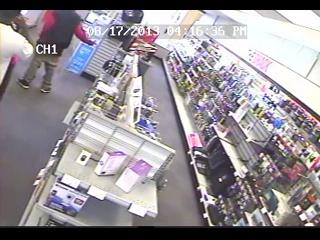Normal: (15, 11, 96, 94), (1, 12, 34, 102)
